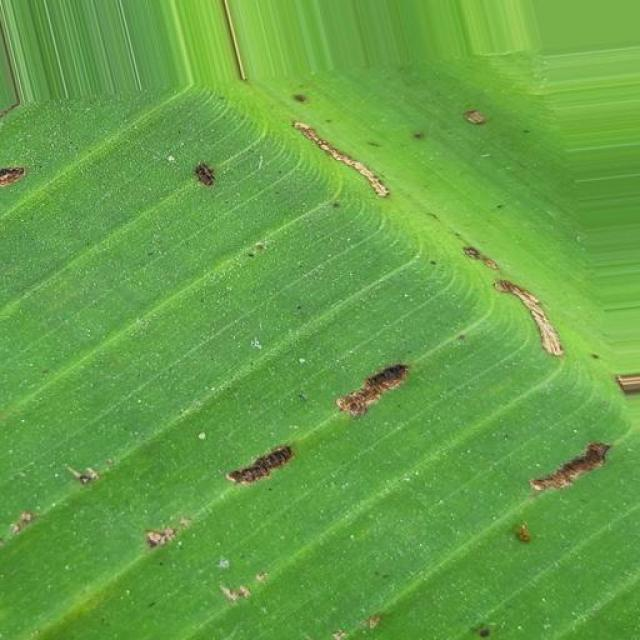Black_rot: (1, 66, 640, 584)
